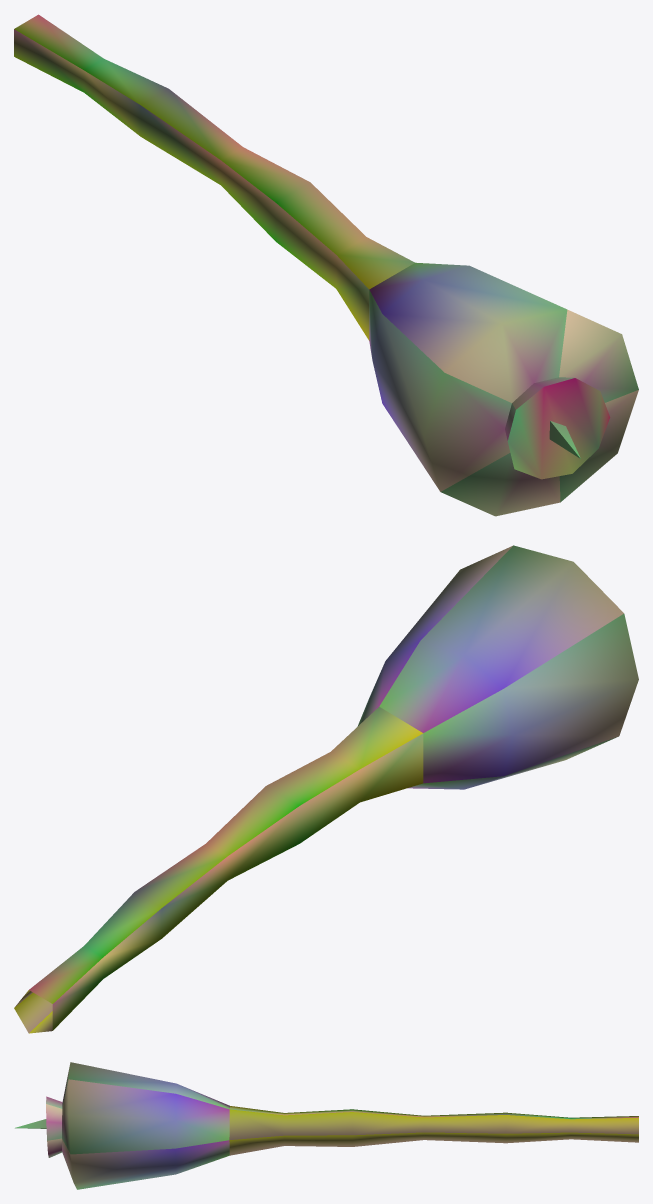
Rendered from Torch.glb.
3 views of the same model, one above another, from view 1: azimuth 30°, elevation 25°; view 2: azimuth 150°, elevation 25°; view 3: azimuth 270°, elevation 25° (orthographic). The views are drawn at different scales.
Visible parts, largest first — view 1: MeshNode_0; view 2: MeshNode_0; view 3: MeshNode_0.
Part boxes in pixels (x1=…): MeshNode_0: x1=14, y1=14, x2=638, y2=516; MeshNode_0: x1=14, y1=545, x2=638, y2=1033; MeshNode_0: x1=15, y1=1062, x2=638, y2=1189.
Bounding box in the file's own units: 0.8879 × 0.8043 × 4.13.
